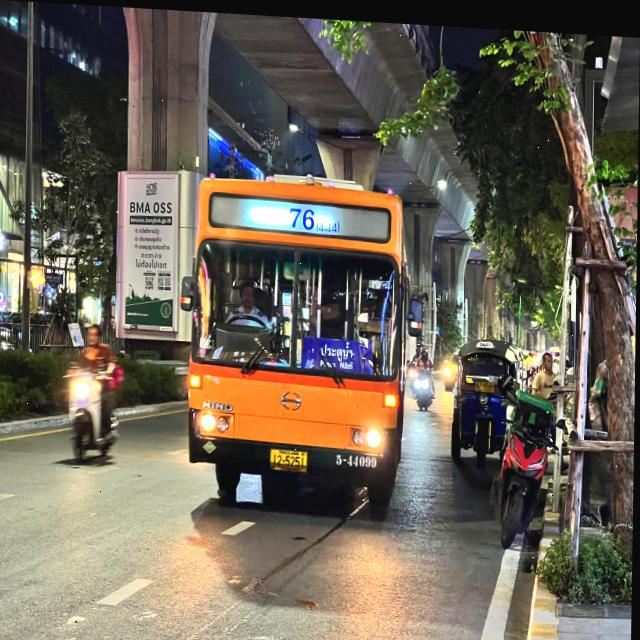BMTA-bus: (180, 159, 428, 513)
Bus Line Number: (283, 199, 344, 229)
Bus Side Number: (335, 448, 378, 468)
Destination Sign: (304, 332, 375, 370)
